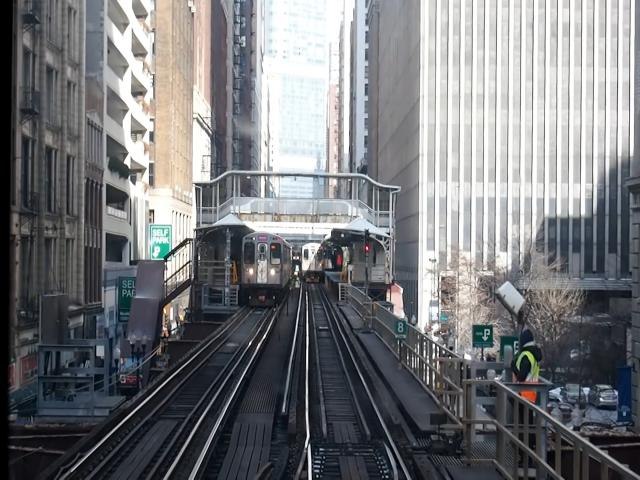signal light: (365, 228, 373, 260)
